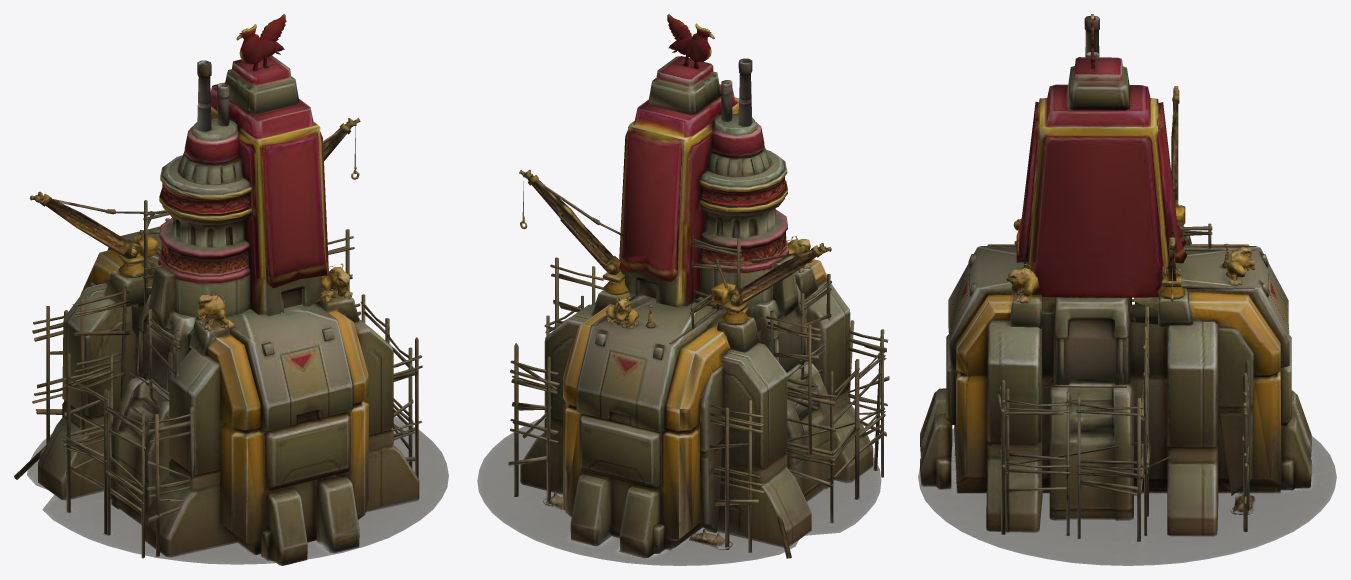
File: scaffold_yard.glb
3 views of the same model, side by side, from view 1: azimuth 30°, elevation 25°; view 2: azimuth 150°, elevation 25°; view 3: azimuth 270°, elevation 25° (orthographic). The views are drawn at different scales.
Parts seen in each view (by area): view 1: Body, Trim; view 2: Body, Trim; view 3: Body, Trim.
Part boxes in pixels (bbox=[...]): Body: bbox=[14, 14, 448, 565]; Trim: bbox=[35, 24, 368, 536]; Body: bbox=[477, 14, 889, 565]; Trim: bbox=[531, 23, 827, 540]; Body: bbox=[918, 15, 1336, 565]; Trim: bbox=[956, 14, 1280, 477].
Bounding box in the file's own units: 14.34 × 17.49 × 14.27.
Materials: 2 (2 with a texture image).
